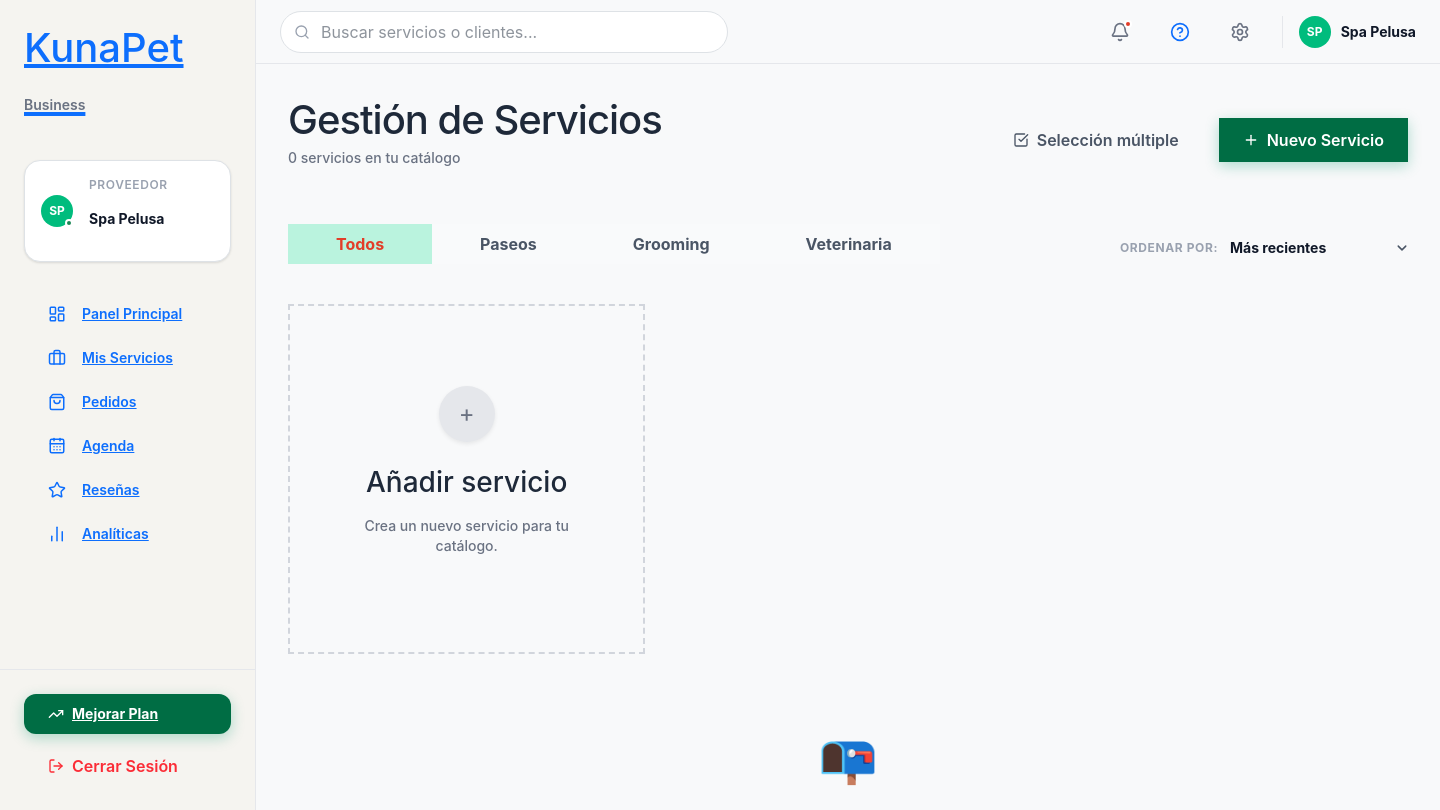
it: Gestión de servicios del proveedor › crea un servicio: valida, envía POST /items con céntimos y lo agrega a la lista
Click the button "Nuevo Servicio" at (1313, 140), box [1219, 118, 1408, 162]
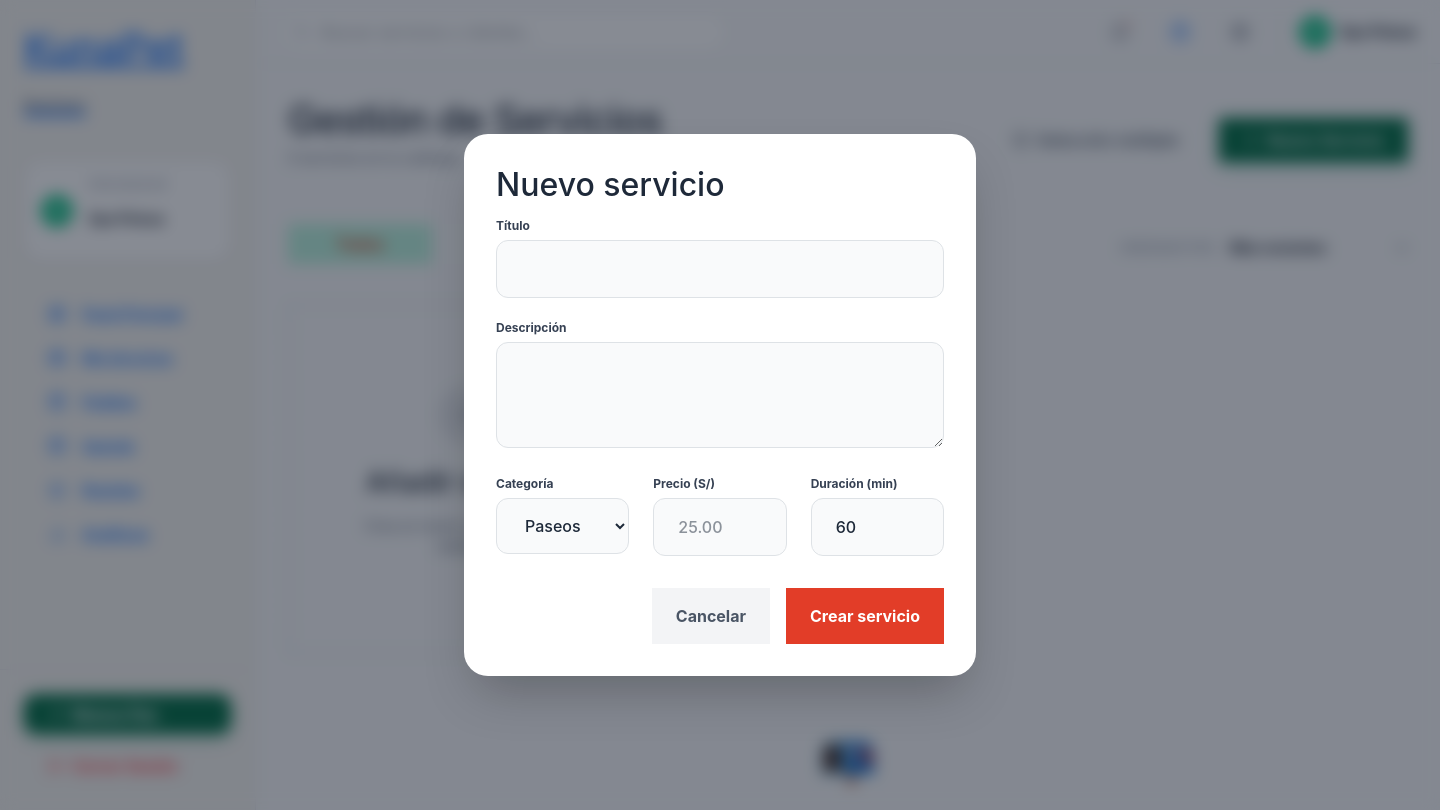
# Validación local antes de llamar a la API
Click the button "Crear servicio" at (865, 616), box [786, 588, 944, 644]
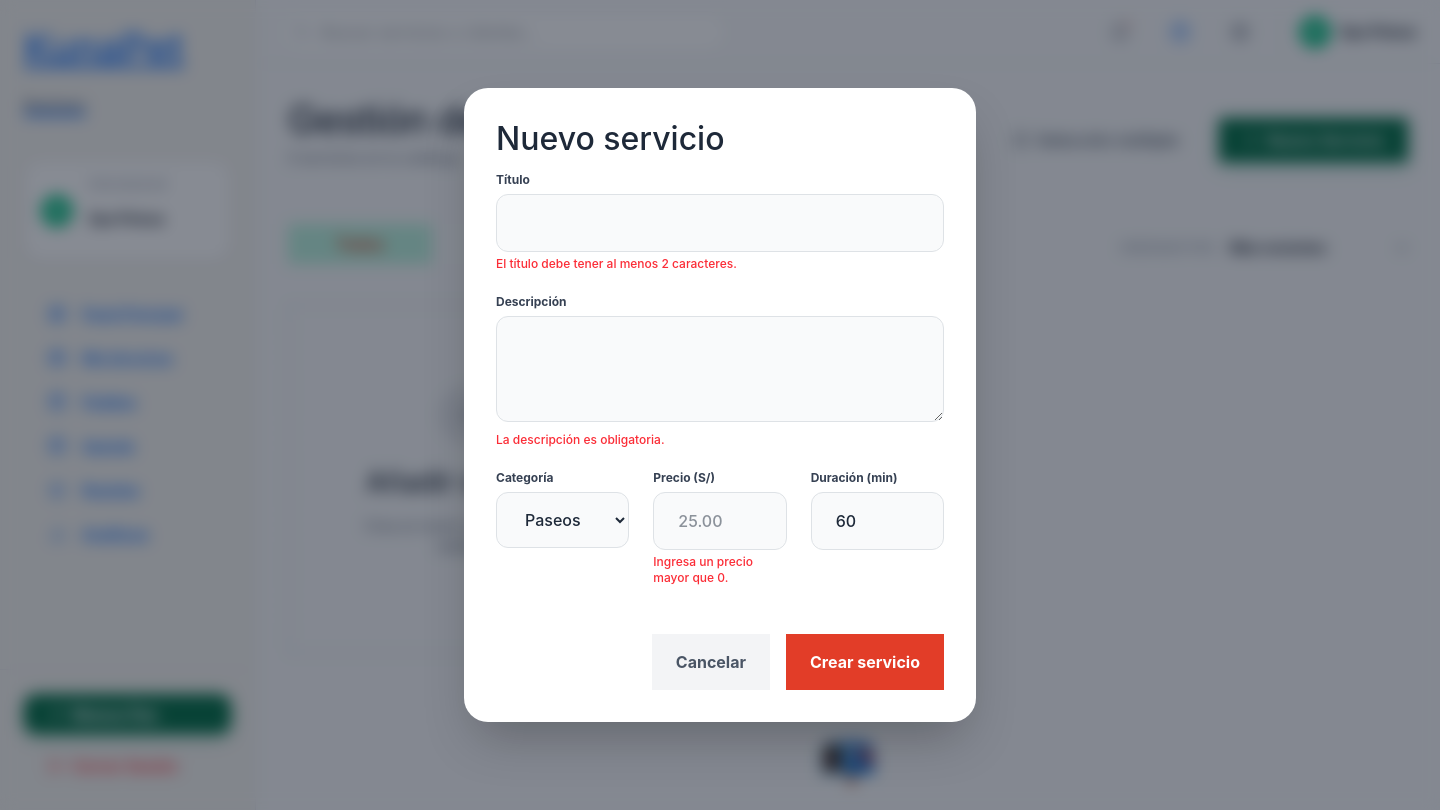
Check: the text "El título debe tener al menos 2 caracteres." is shown, box [496, 256, 737, 271]
Type "Paseo nocturno" into the field labelled "Título" at (720, 223), box [496, 194, 944, 252]
Type "Paseo de 45 minutos" into the text box labelled "Descripción" at (720, 369), box [496, 316, 944, 422]
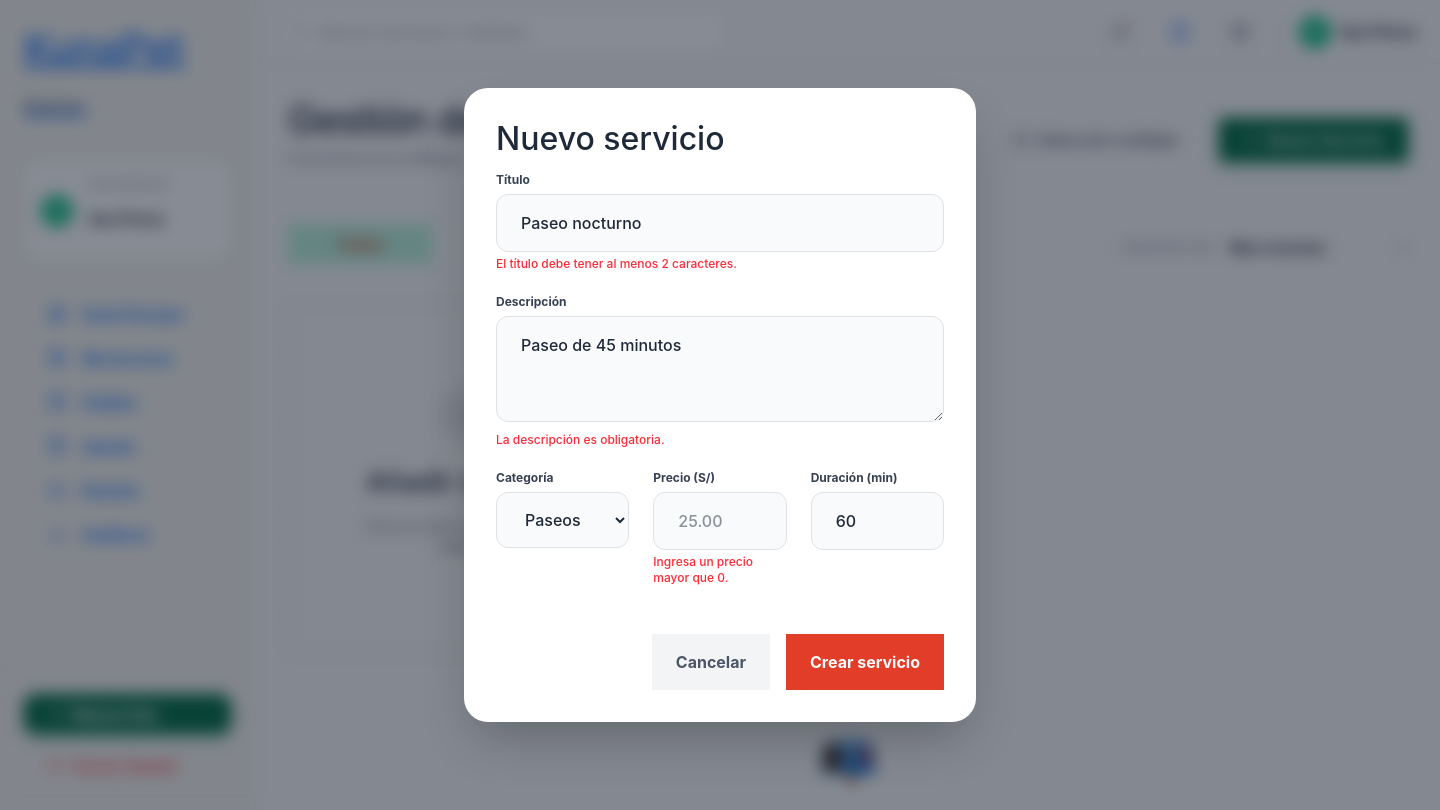
Select "Paseos" in the dropdown labelled "Categoría" at (563, 520), box [496, 492, 629, 548]
Type "30.50" into the field labelled "Precio (S/)" at (720, 521), box [653, 492, 787, 550]
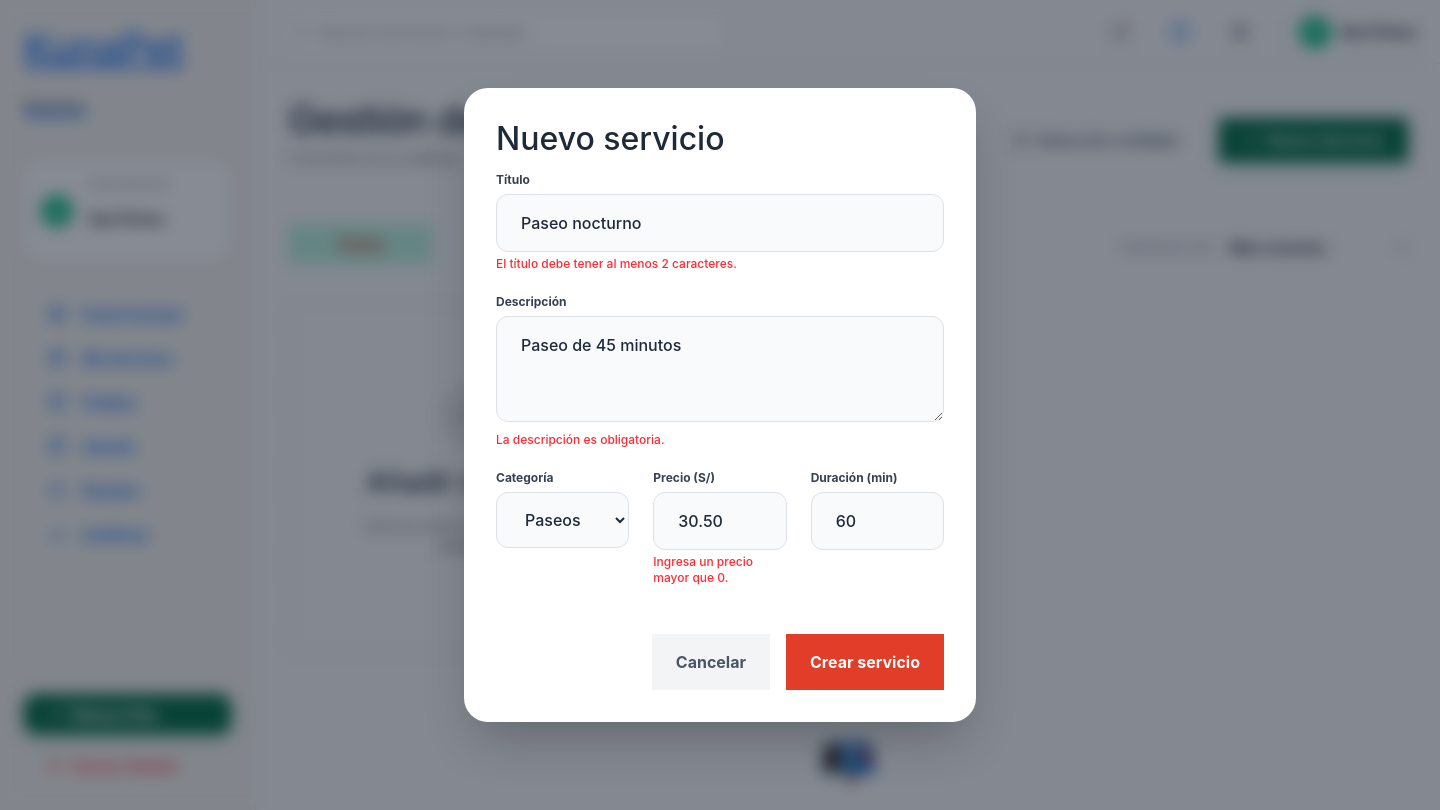
Replace the text in the field labelled "Duración (min)" with "45" at (877, 521), box [811, 492, 944, 550]
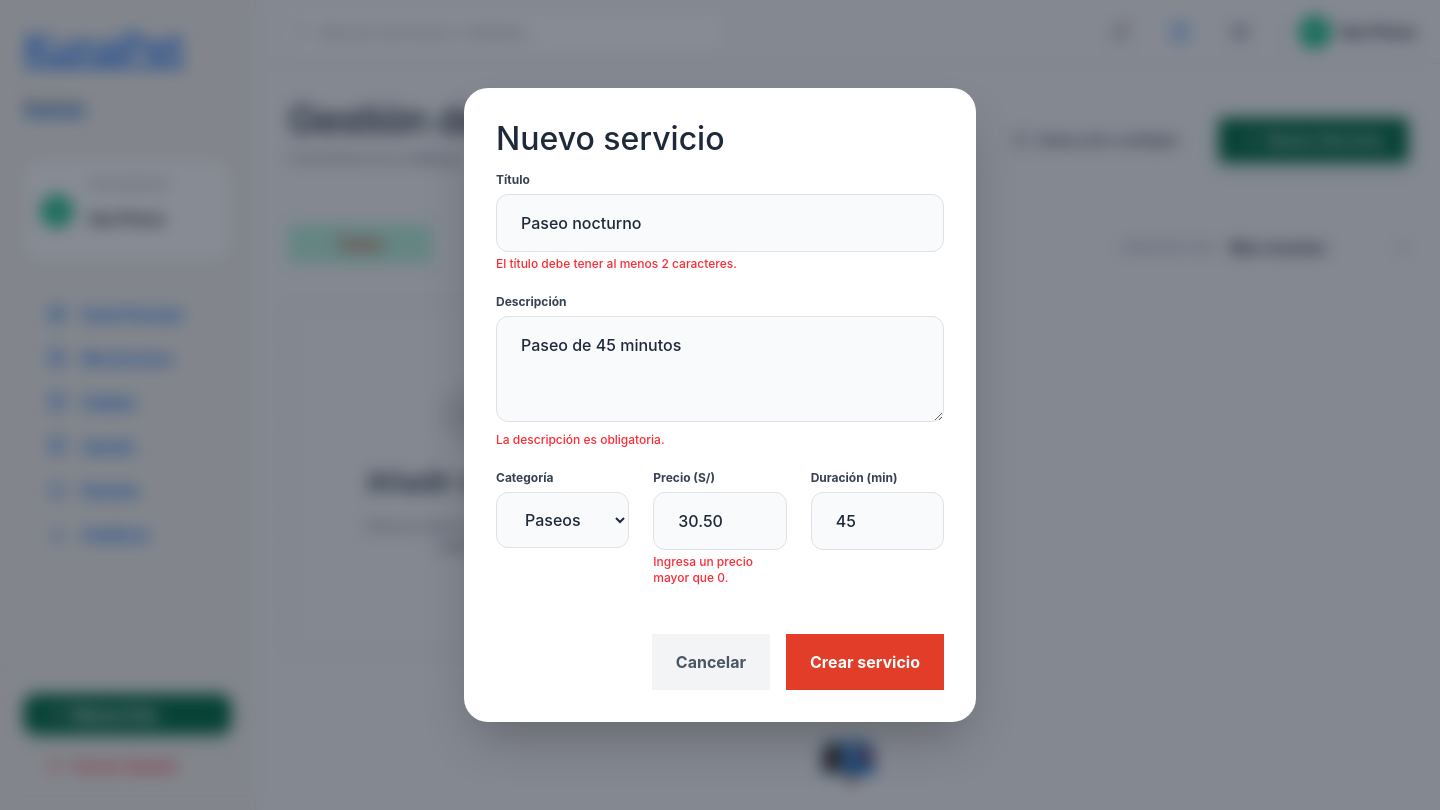
Click the button "Crear servicio" at (865, 662), box [786, 634, 944, 690]
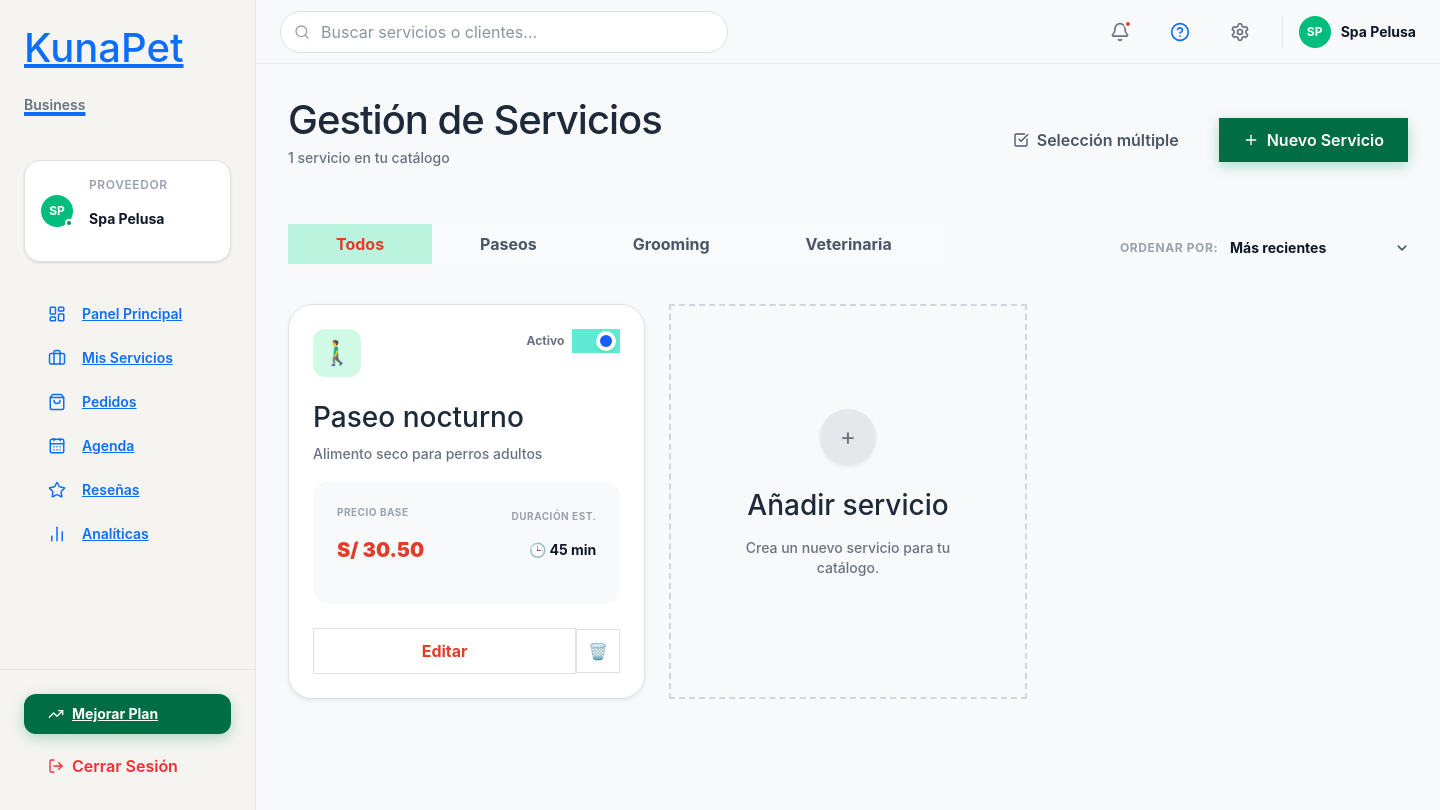
Check: the heading "Paseo nocturno" is shown, box [313, 400, 524, 434]
Check: the dialog is gone
